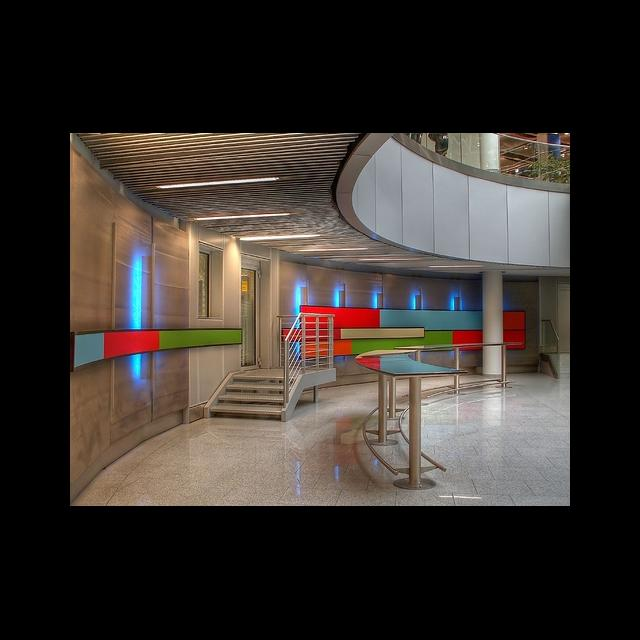Person: (429, 134, 449, 156), (406, 134, 425, 143)
